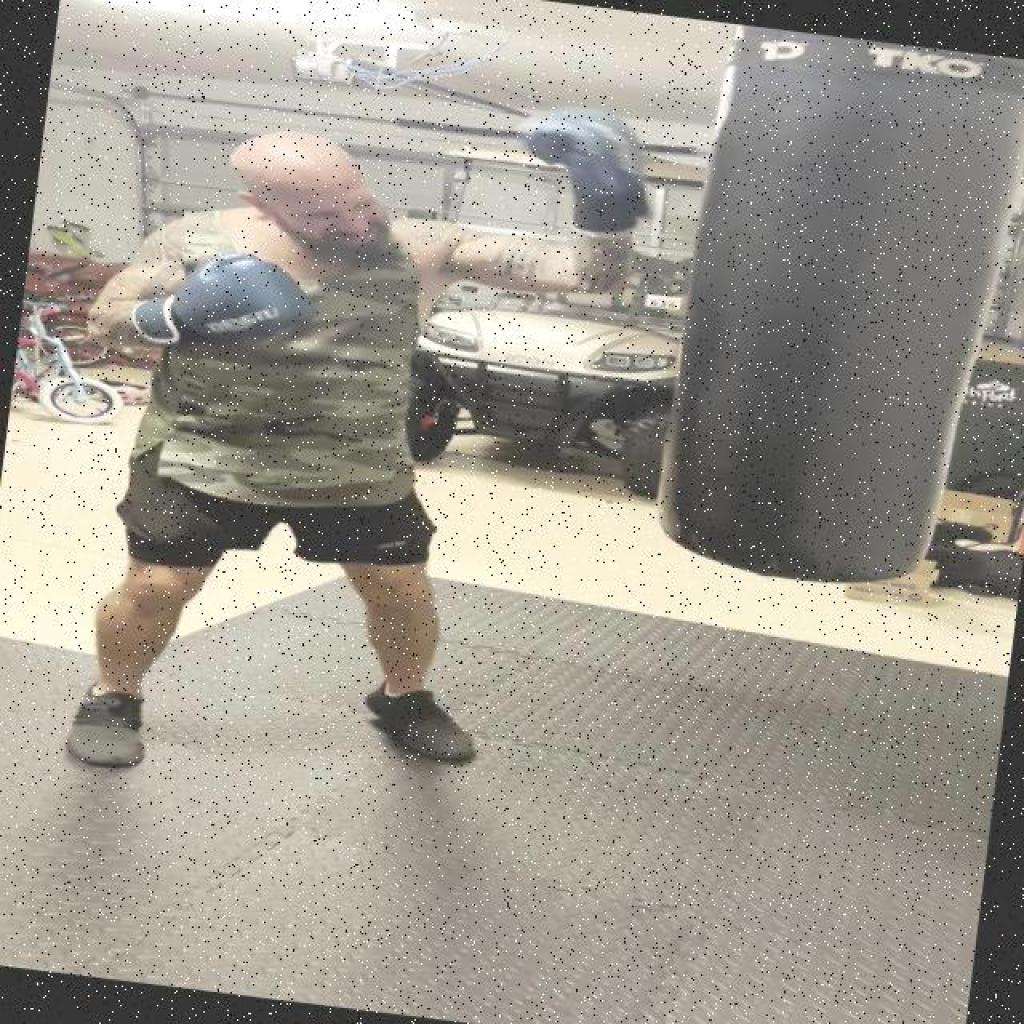bag: (651, 22, 1024, 621)
uppercut: (85, 54, 664, 428)
